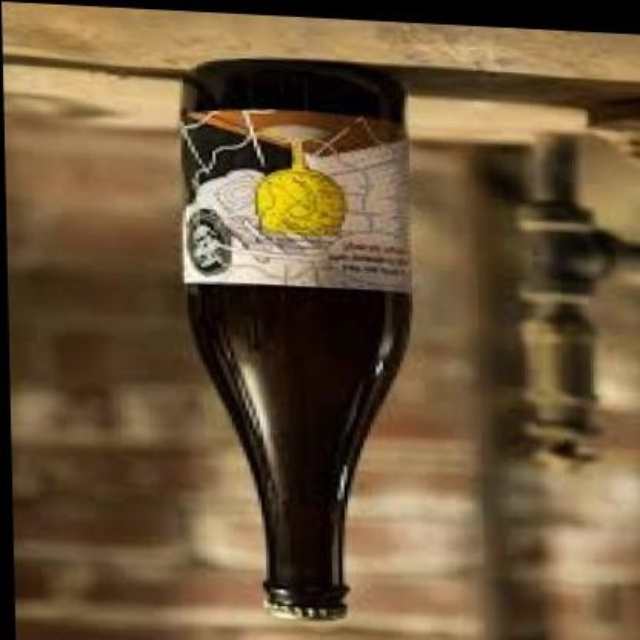trash: (182, 60, 409, 615)
